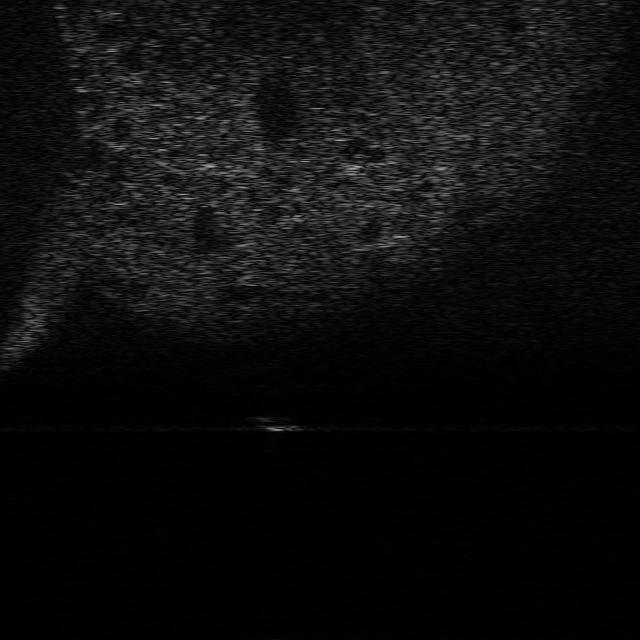cube: (259, 414, 305, 432)
